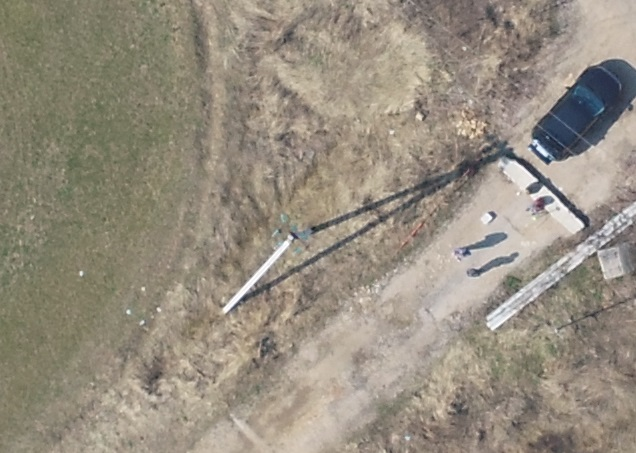opora: (217, 206, 363, 316)
